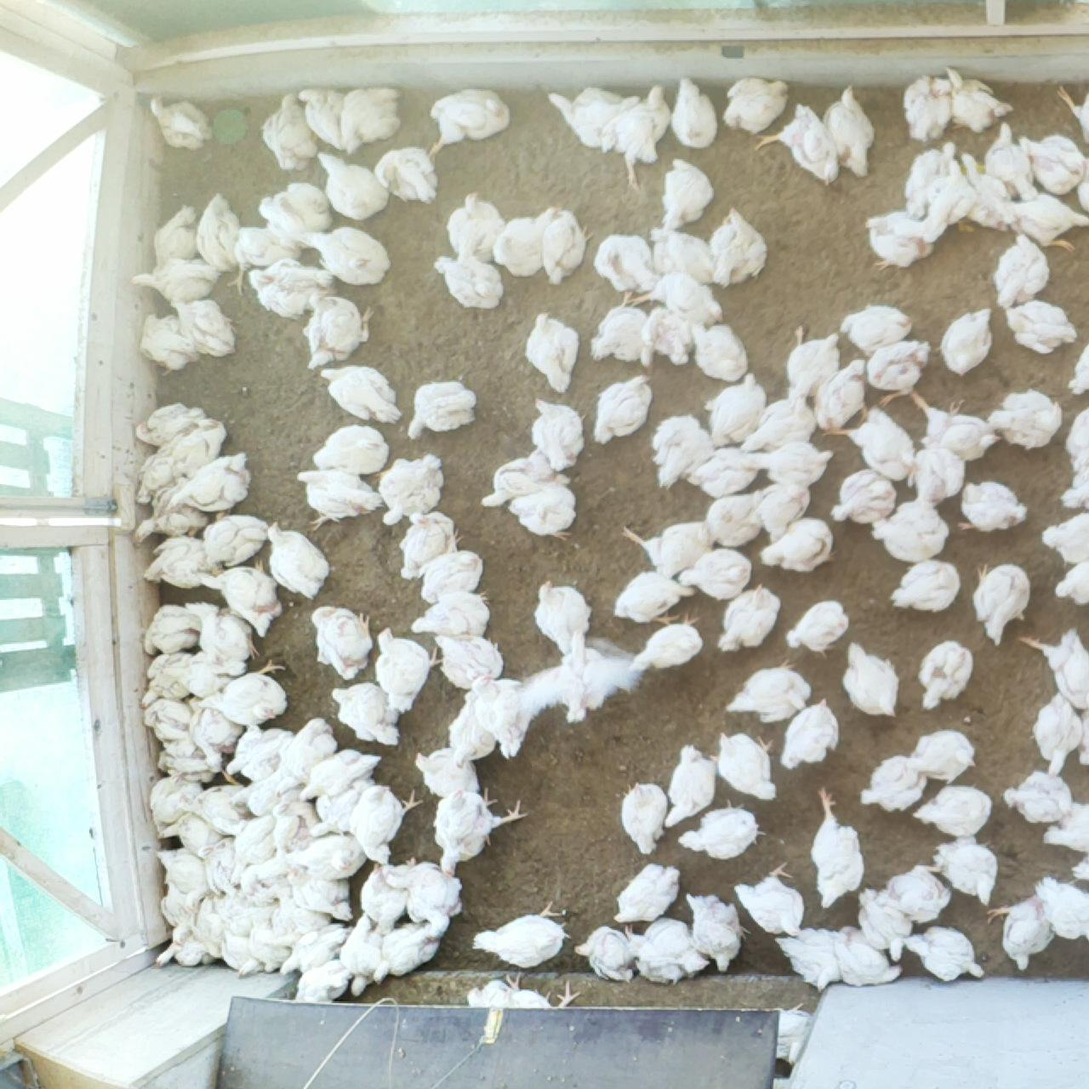chicken: (513, 630, 641, 729), (596, 83, 674, 189), (751, 103, 840, 189), (824, 403, 918, 482), (613, 913, 713, 987), (195, 558, 283, 640), (810, 785, 868, 909), (907, 388, 1002, 462), (371, 623, 445, 717), (383, 863, 467, 943), (422, 86, 513, 159), (467, 901, 572, 963), (431, 784, 532, 845), (348, 778, 418, 866), (614, 518, 714, 579), (680, 887, 751, 972), (725, 658, 815, 725), (985, 892, 1058, 974), (670, 799, 768, 860), (1018, 626, 1089, 710), (469, 672, 536, 761), (200, 661, 293, 725), (288, 469, 384, 531), (921, 833, 999, 908), (625, 266, 722, 326), (735, 861, 810, 938), (128, 477, 206, 551), (250, 255, 336, 321), (646, 411, 715, 493), (818, 81, 875, 180), (168, 450, 252, 517), (1004, 186, 1089, 252), (427, 795, 494, 878), (701, 368, 768, 451), (969, 556, 1030, 647), (587, 286, 653, 370), (523, 309, 585, 398), (550, 87, 645, 145), (229, 221, 303, 295), (504, 470, 580, 542), (306, 291, 373, 371), (297, 744, 381, 807), (130, 253, 221, 311), (260, 92, 322, 177), (900, 915, 981, 980), (831, 919, 904, 991), (377, 451, 447, 526), (428, 629, 510, 693), (265, 522, 330, 602), (914, 157, 975, 242), (318, 151, 393, 220), (988, 385, 1066, 451), (739, 388, 818, 453), (841, 641, 905, 721), (711, 729, 781, 802), (303, 228, 391, 286), (864, 335, 932, 410), (869, 499, 953, 559), (662, 741, 718, 831), (490, 207, 559, 280), (317, 366, 400, 426), (613, 566, 696, 626), (810, 356, 872, 436), (914, 636, 976, 716), (371, 921, 443, 989), (739, 438, 835, 489), (259, 185, 333, 251), (776, 695, 842, 769), (955, 150, 1013, 234), (311, 603, 375, 679), (534, 578, 594, 659), (593, 370, 654, 449), (694, 486, 767, 552), (977, 117, 1033, 203), (992, 230, 1052, 310), (628, 608, 705, 670), (1031, 690, 1084, 780), (773, 923, 844, 990), (711, 205, 769, 287), (407, 379, 479, 445), (398, 507, 463, 580), (643, 223, 716, 288), (143, 534, 224, 592), (611, 859, 680, 927), (945, 62, 1011, 133), (526, 395, 586, 473), (481, 446, 555, 509), (169, 295, 239, 361), (838, 297, 915, 357), (340, 82, 404, 154), (911, 781, 993, 837), (756, 514, 835, 572), (785, 324, 842, 404), (181, 770, 248, 838), (187, 597, 257, 662), (750, 478, 814, 549), (276, 719, 334, 797), (1000, 297, 1078, 355), (445, 688, 499, 770), (135, 314, 203, 379), (157, 651, 249, 699), (446, 193, 508, 264), (718, 73, 789, 135), (592, 231, 658, 297), (717, 582, 780, 651), (540, 205, 593, 287), (901, 141, 956, 220), (1027, 875, 1089, 945), (659, 157, 715, 234), (332, 681, 398, 746), (166, 414, 229, 482), (306, 774, 375, 836), (884, 861, 949, 926), (1019, 132, 1085, 196), (858, 888, 915, 962), (905, 726, 980, 782), (188, 697, 242, 774), (313, 423, 391, 476), (953, 481, 1031, 534), (867, 211, 935, 271), (410, 589, 491, 639), (828, 466, 899, 523), (148, 732, 224, 785), (860, 752, 927, 812), (938, 305, 993, 378), (1004, 770, 1073, 828), (433, 254, 503, 311), (636, 304, 698, 368), (682, 544, 755, 598), (685, 446, 762, 497), (284, 866, 354, 922), (411, 748, 481, 804), (207, 509, 275, 566), (281, 921, 352, 975), (342, 913, 386, 1000), (889, 558, 958, 613), (687, 319, 748, 381), (375, 147, 438, 207), (573, 922, 636, 982), (193, 197, 242, 273), (143, 97, 213, 150), (357, 861, 407, 935), (135, 398, 206, 450), (785, 599, 852, 654), (287, 832, 367, 878), (911, 443, 969, 506), (670, 76, 718, 152), (227, 721, 292, 777), (417, 551, 483, 606), (228, 814, 278, 886), (149, 769, 206, 832), (140, 599, 202, 656), (157, 846, 210, 912), (153, 810, 222, 860), (621, 777, 667, 852), (265, 896, 330, 948), (224, 767, 289, 819), (148, 205, 200, 270), (140, 648, 195, 708), (904, 72, 954, 138), (206, 893, 278, 936), (298, 85, 344, 151), (294, 958, 354, 1007), (269, 799, 324, 852), (128, 443, 175, 505), (500, 979, 583, 1014), (1039, 507, 1089, 564), (461, 969, 529, 1010), (1041, 802, 1089, 858), (213, 929, 266, 976), (245, 919, 291, 973), (188, 895, 228, 957), (138, 697, 194, 741), (241, 845, 292, 893), (1053, 83, 1089, 151), (195, 838, 238, 894), (151, 933, 214, 970), (160, 882, 194, 947), (1054, 557, 1089, 609), (1062, 405, 1089, 468), (1060, 459, 1089, 515), (1069, 339, 1089, 400), (1074, 156, 1089, 217)
